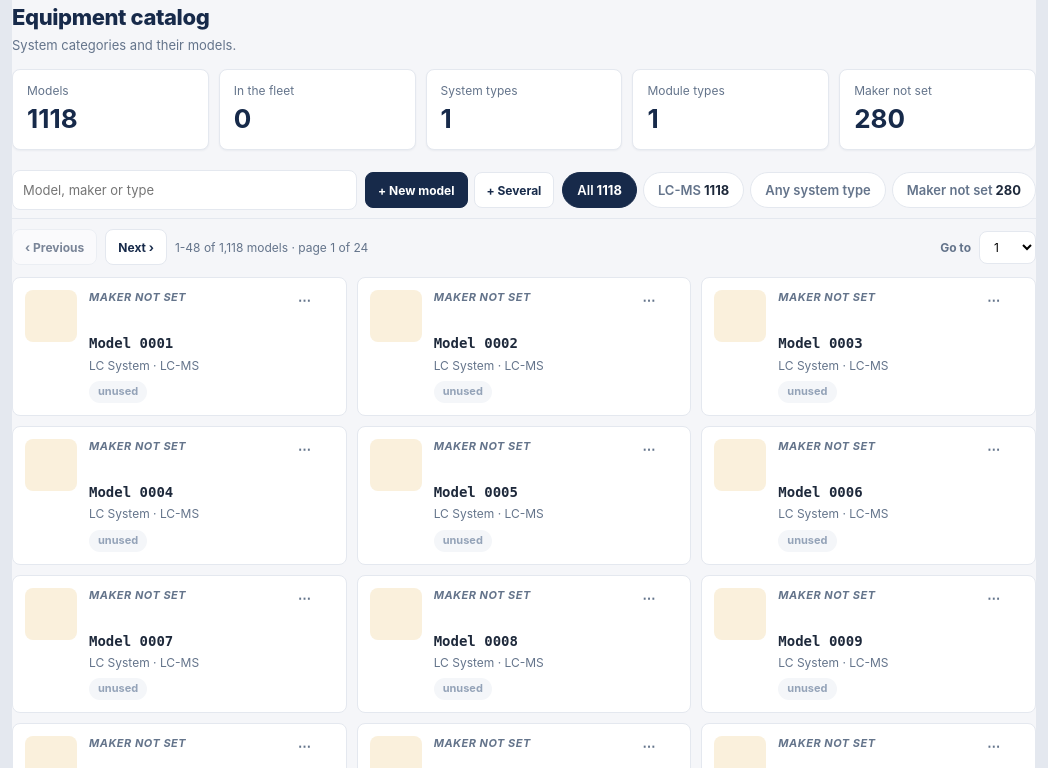
Scenario: a filter change goes back to the top › does the same when a facet is picked
Click the button "Next ›": [136, 247] box [105,229,167,265]
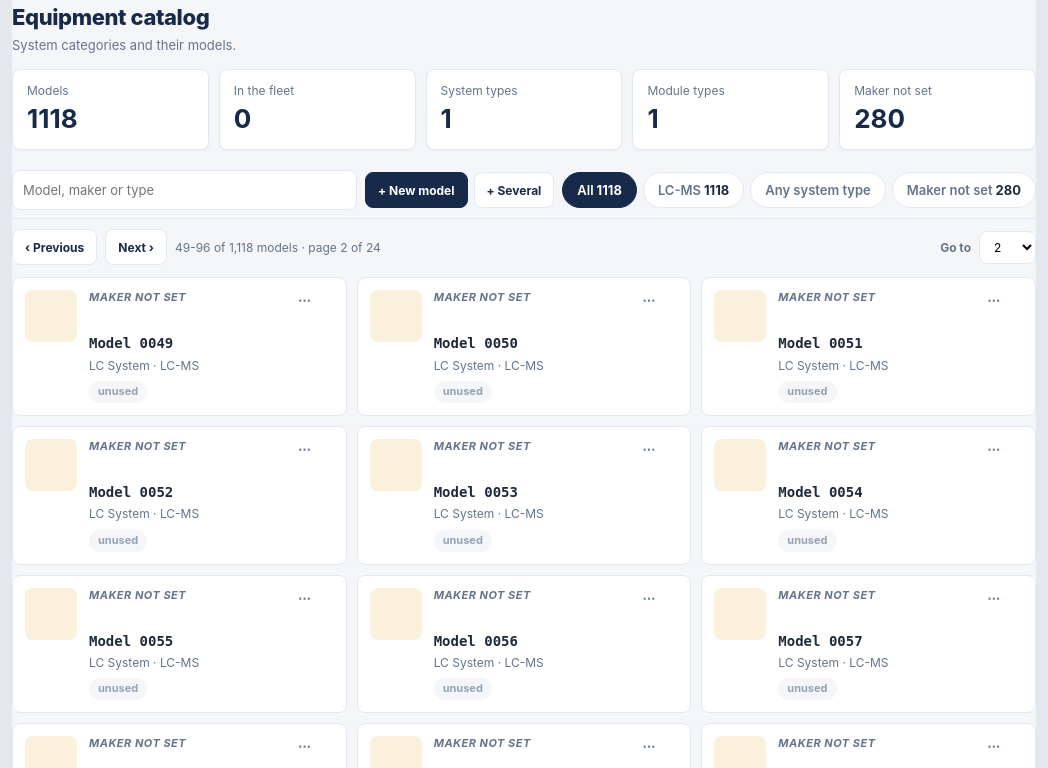
Click the button "Next ›": [136, 247] box [105,229,167,265]
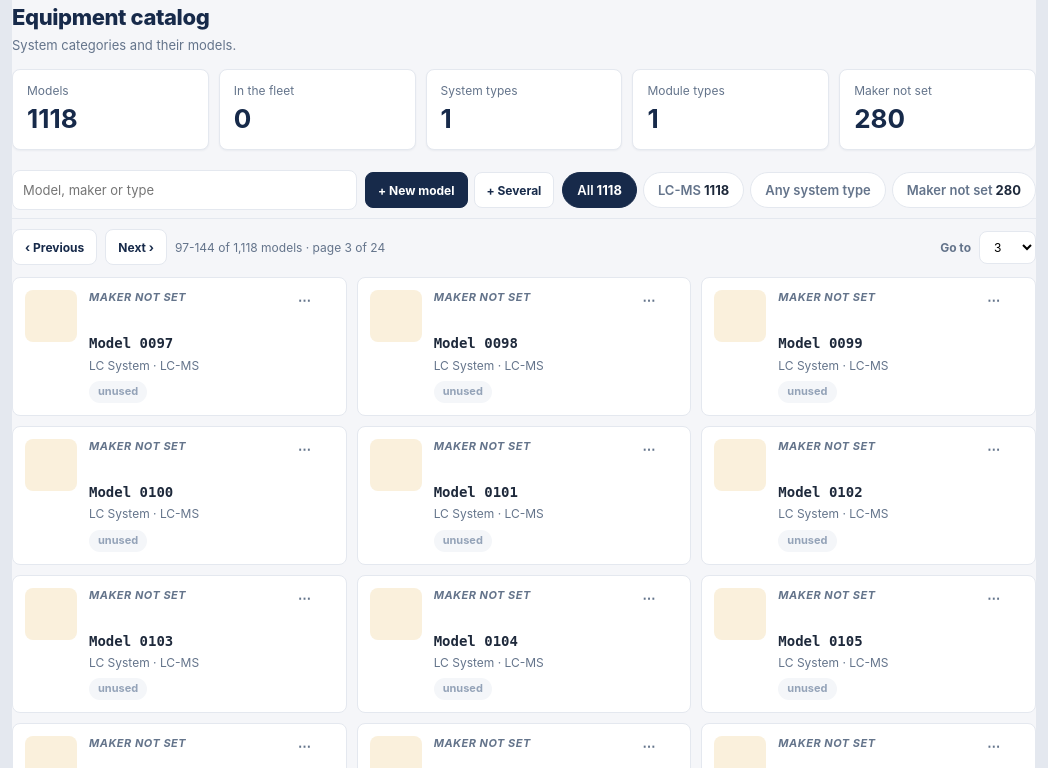
Click the button "Next ›": [136, 247] box [105,229,167,265]
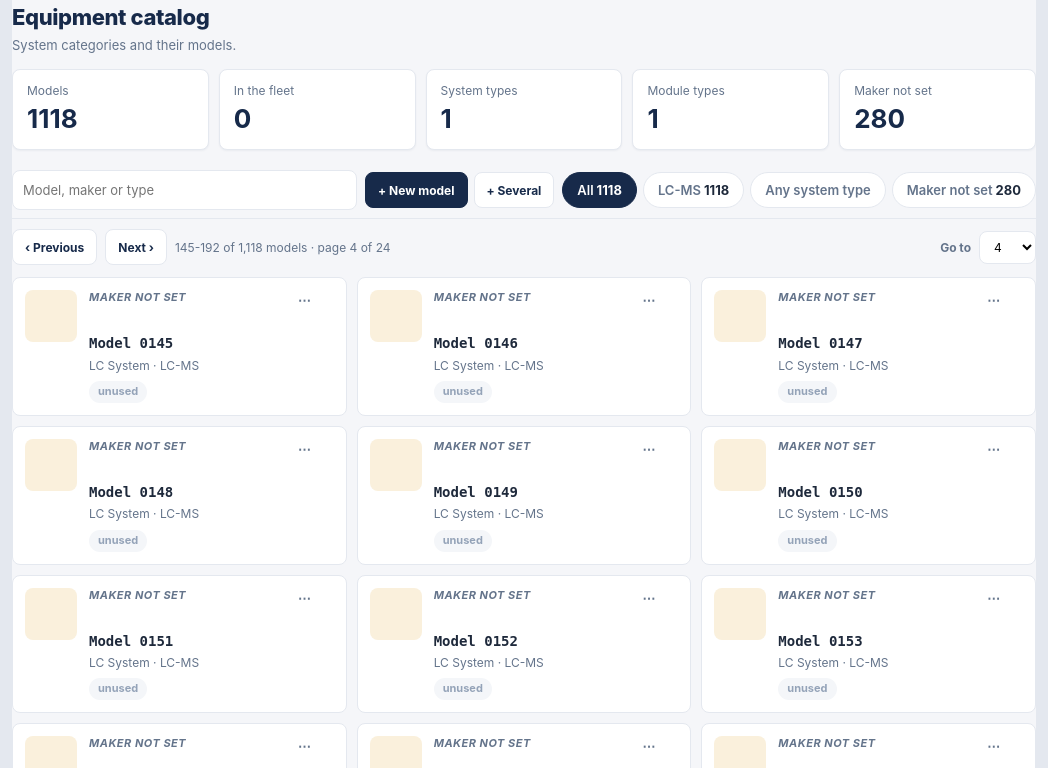
Click the button "Next ›": [136, 247] box [105,229,167,265]
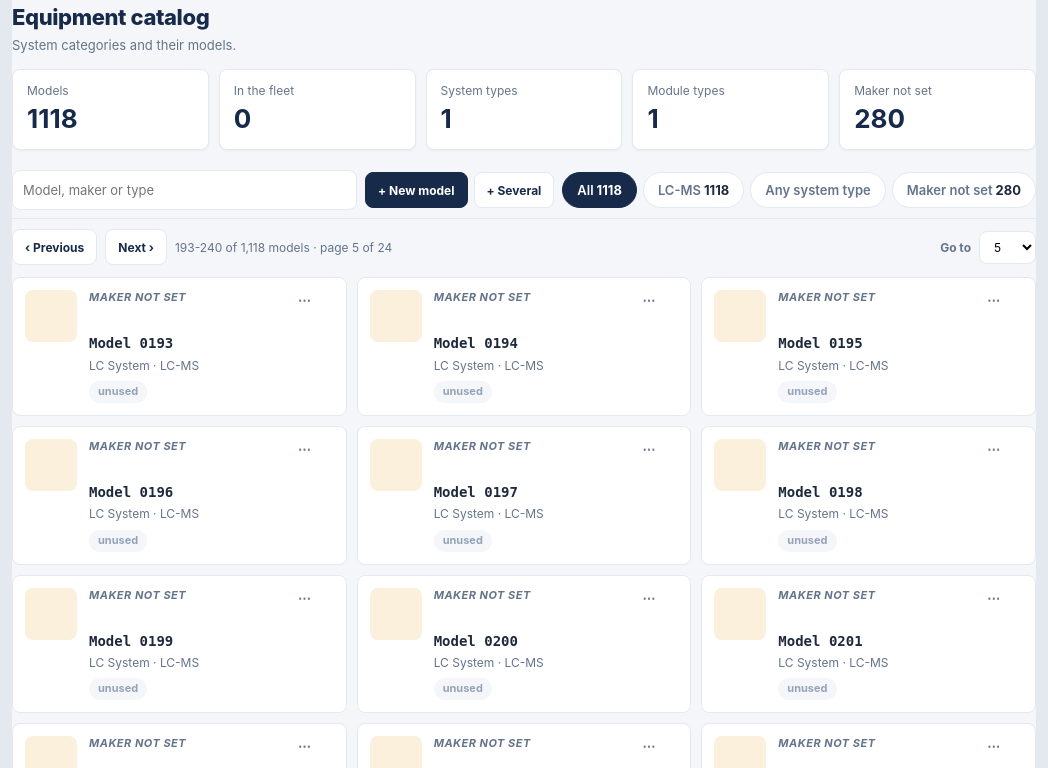
Click the button "Next ›": [136, 247] box [105,229,167,265]
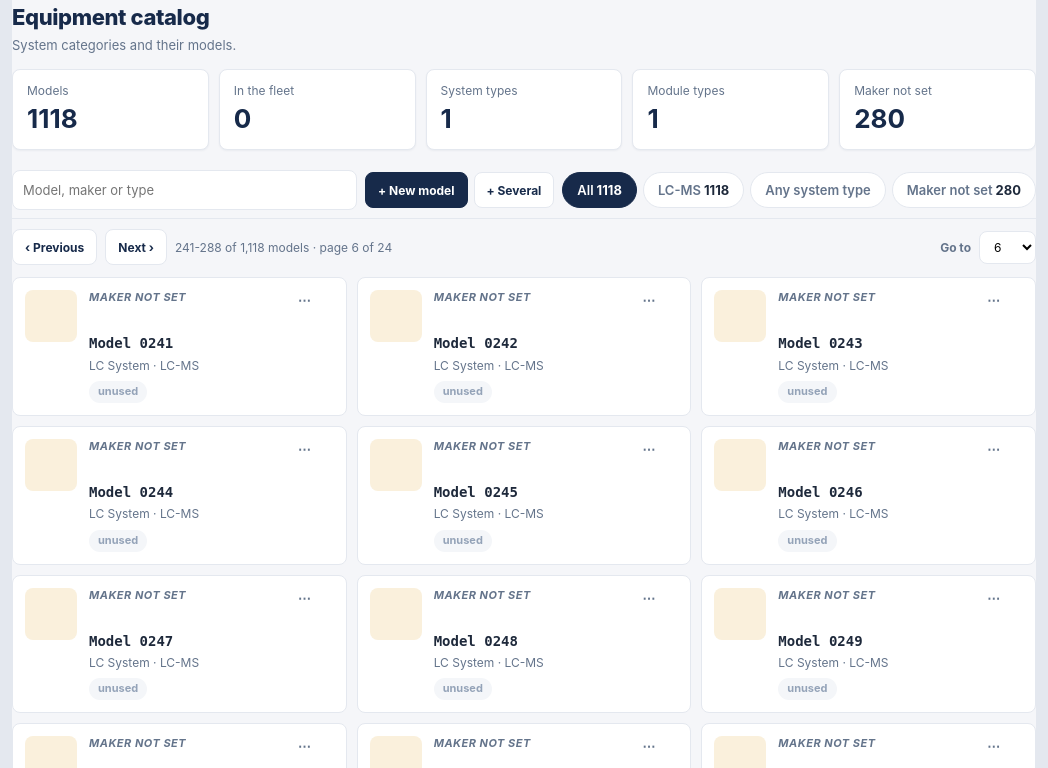
Click the button "Maker not set280": [964, 190] box [892,172,1036,208]
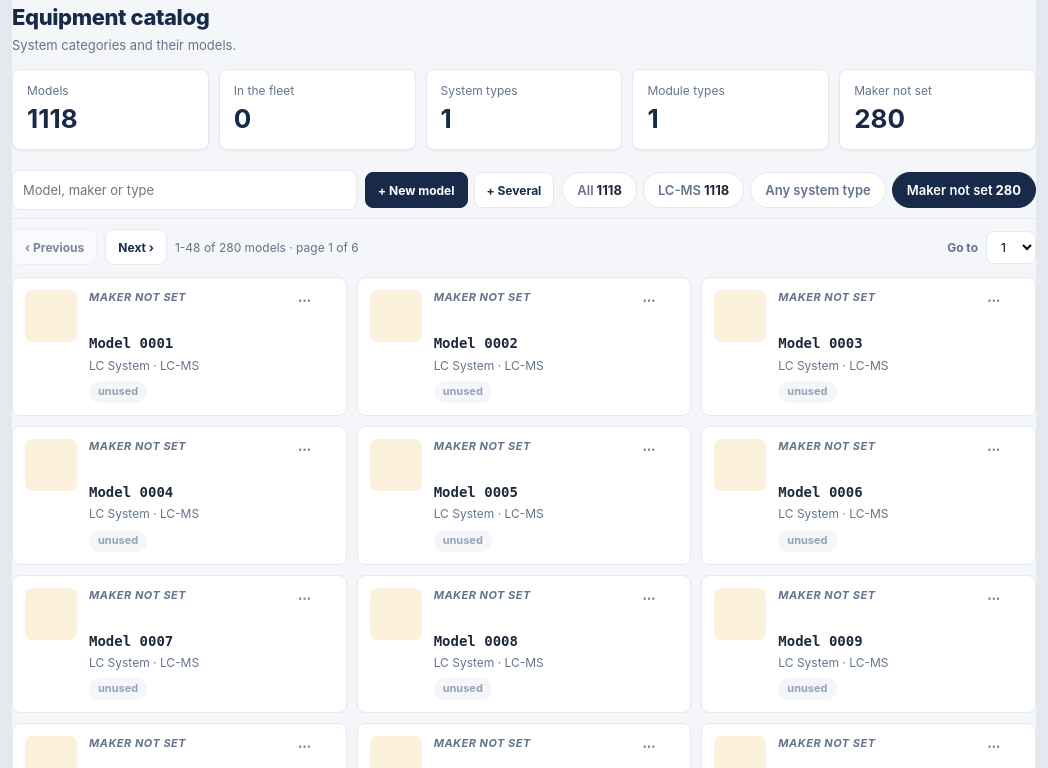
Now the link "Model 0001" is shown, box [89,335,173,351]
Now the text "1-48 of 280 models · page 1 of 6" is shown, box [175,239,359,256]
